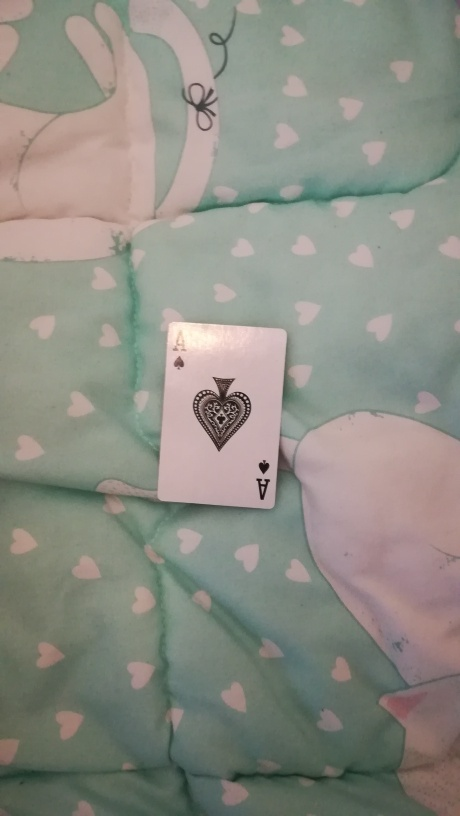ht a: (152, 318, 284, 519)
